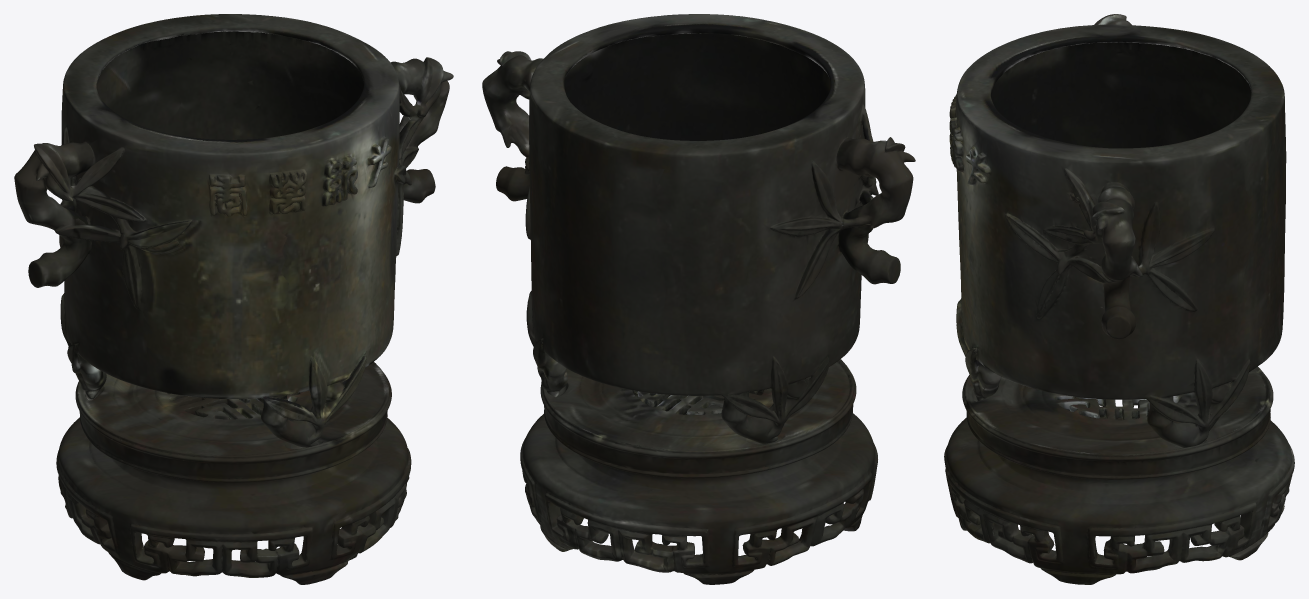
Rendered from lu-huong.glb.
3 renders of one model, left to right at view 1: azimuth 30°, elevation 25°; view 2: azimuth 150°, elevation 25°; view 3: azimuth 270°, elevation 25°, orthographic. The views are drawn at different scales.
Visible parts, largest first — view 1: Polygonal_Model_1 59; view 2: Polygonal_Model_1 59; view 3: Polygonal_Model_1 59.
Part boxes in pixels (x1,y1,x2,y2): Polygonal_Model_1 59: (14, 14, 453, 584); Polygonal_Model_1 59: (482, 14, 915, 584); Polygonal_Model_1 59: (944, 14, 1294, 584).
Size of the model in its own units: 1.14 by 1.12 by 0.8257.
Materials: 1 (1 with a texture image).
